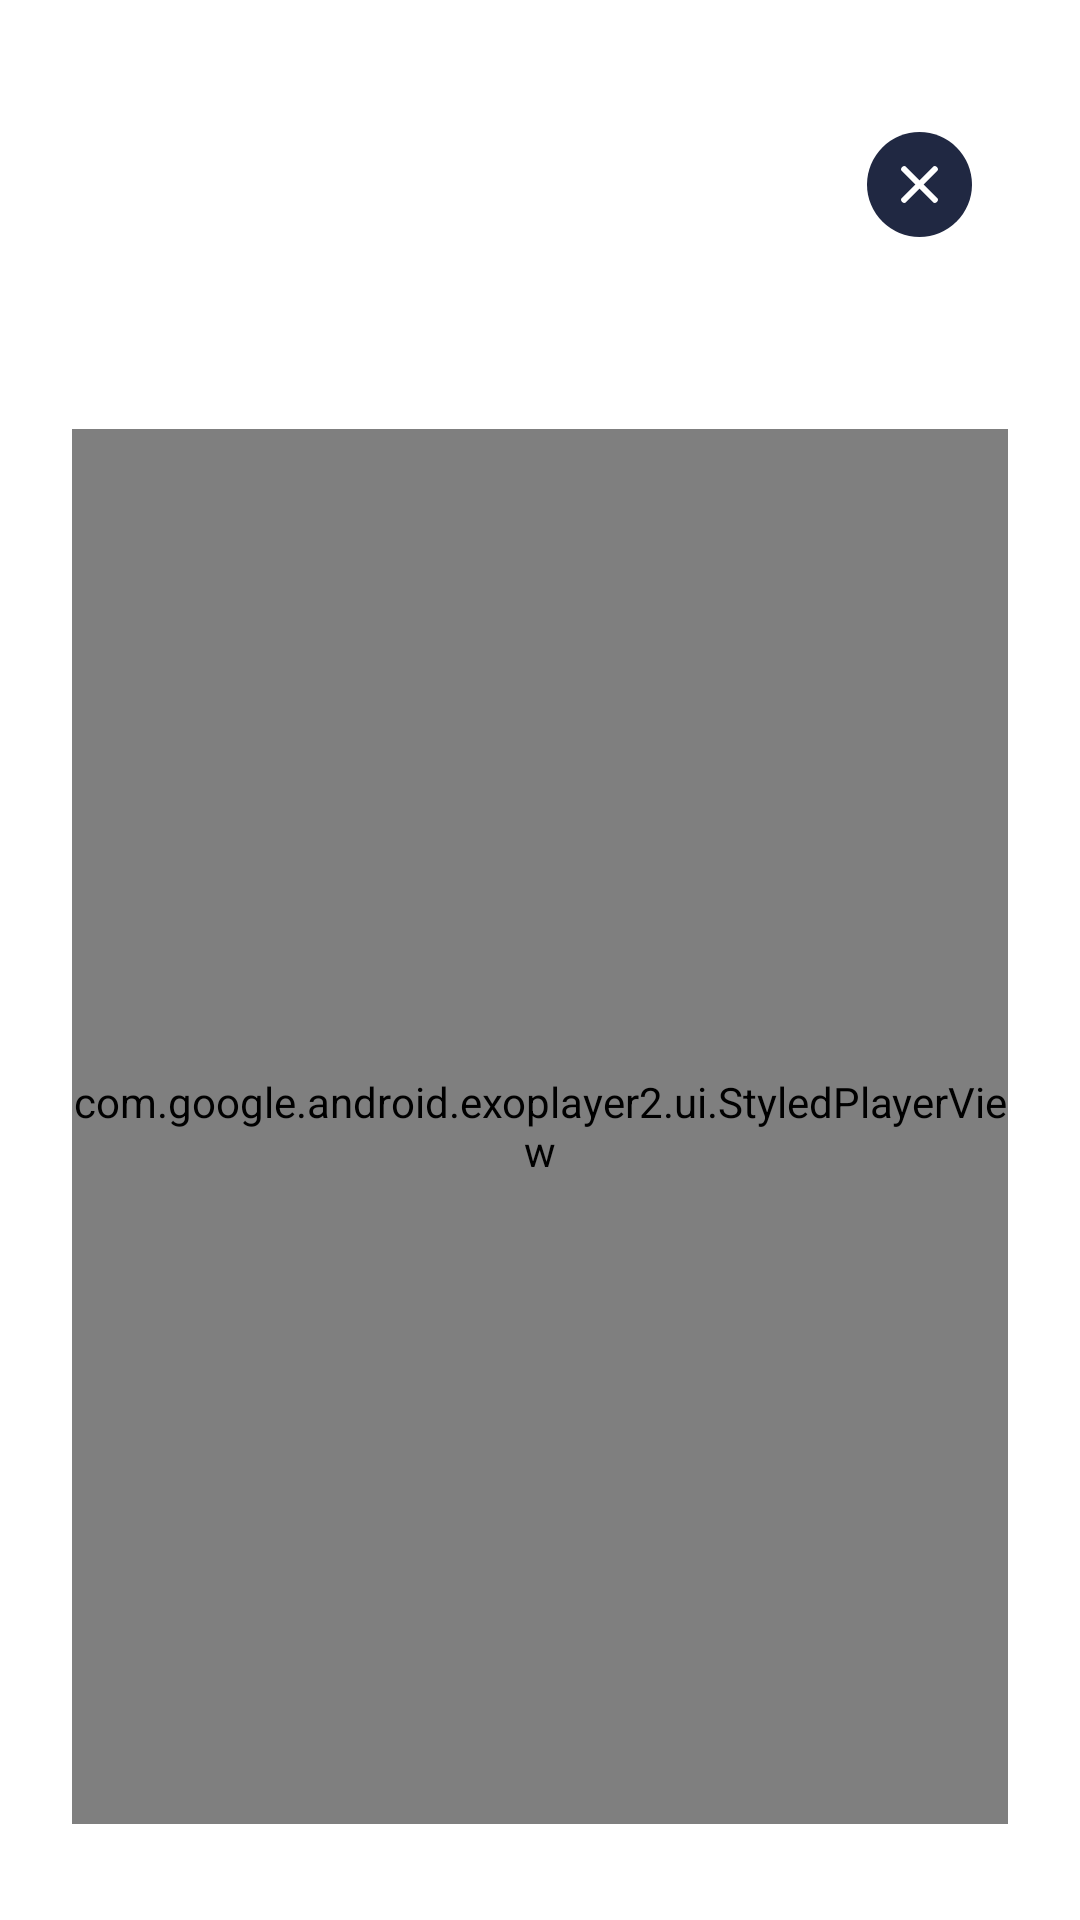

Icon bounding boxes for this 1080*1920 phone screenshot, format box(x1, y1, x2, y2):
close: box(867, 132, 972, 237)
